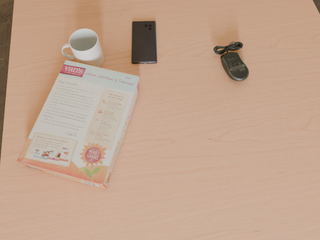box: (17, 60, 140, 189)
cup: (62, 29, 104, 67)
mouse: (214, 42, 249, 81)
phone: (132, 21, 157, 64)
